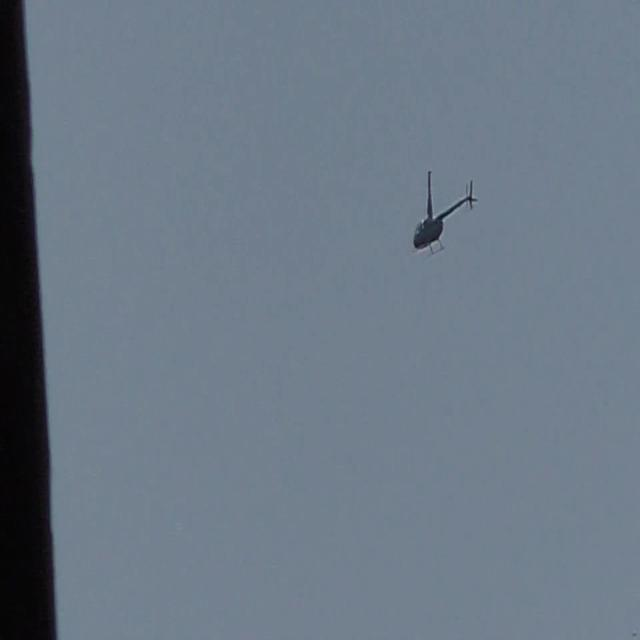CIV_HELO: (412, 178, 478, 258)
